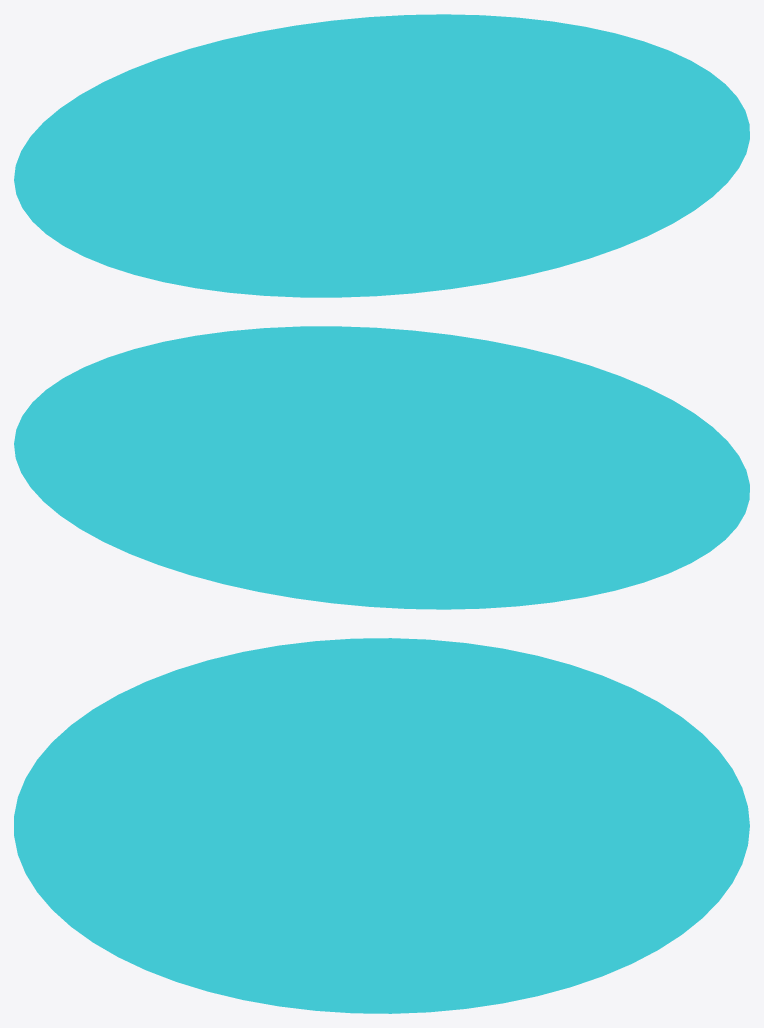
The model's file is Progeny Oval Floor.FBX.
The picture shows the model from 3 angles, top to bottom: view 1: azimuth 30°, elevation 25°; view 2: azimuth 150°, elevation 25°; view 3: azimuth 270°, elevation 25°; orthographic projection. The views are drawn at different scales.
Visible parts, largest first — view 1: Arena003; view 2: Arena003; view 3: Arena003.
Boxes of the visible parts, bbox=[...] form: Arena003: bbox=[14, 14, 749, 297]; Arena003: bbox=[14, 326, 749, 609]; Arena003: bbox=[14, 638, 749, 1013].
Size of the model in its own units: 157 by 0 by 130.
